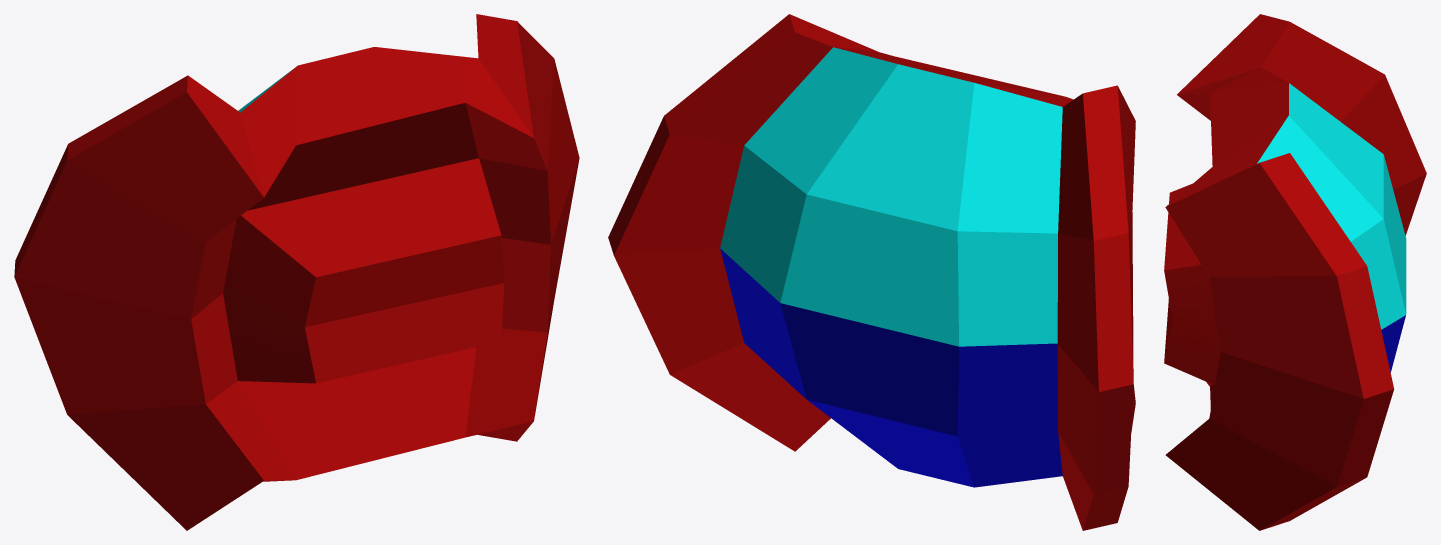
File: Chr_ElbowAttachLeft_Static_04.fbx
3 views of the same model, side by side, from view 1: azimuth 30°, elevation 25°; view 2: azimuth 150°, elevation 25°; view 3: azimuth 270°, elevation 25° (orthographic). The views are drawn at different scales.
Visible parts, largest first — view 1: Chr_ElbowAttachLeft_04; view 2: Chr_ElbowAttachLeft_04; view 3: Chr_ElbowAttachLeft_04.
Part boxes in pixels (x1,y1,x2,y2): Chr_ElbowAttachLeft_04: (14,14,579,530); Chr_ElbowAttachLeft_04: (608,14,1135,530); Chr_ElbowAttachLeft_04: (1164,14,1426,530).
Size of the model in its own units: 18.89 by 14.51 by 8.99.
